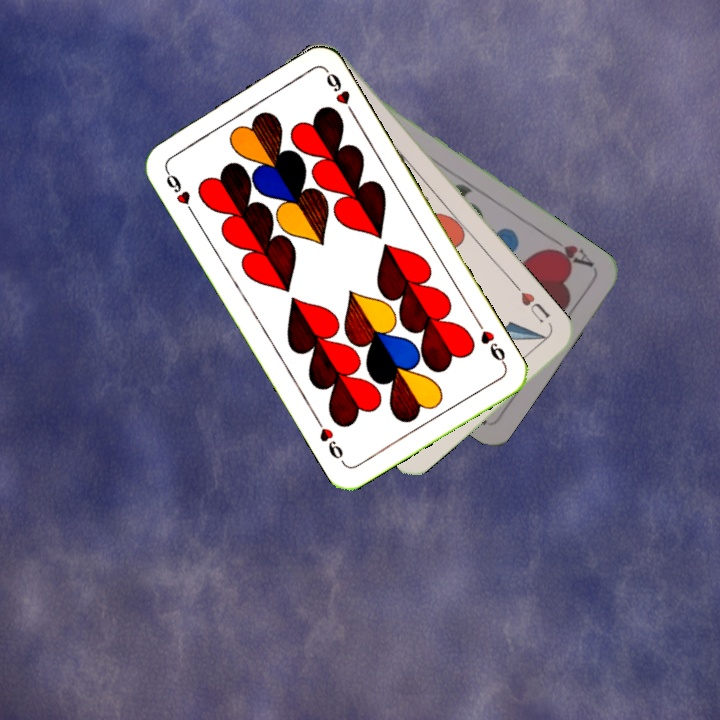H9: (472, 316, 509, 369), (161, 165, 198, 218)
HA: (543, 231, 597, 270)
HU: (512, 282, 553, 324)
